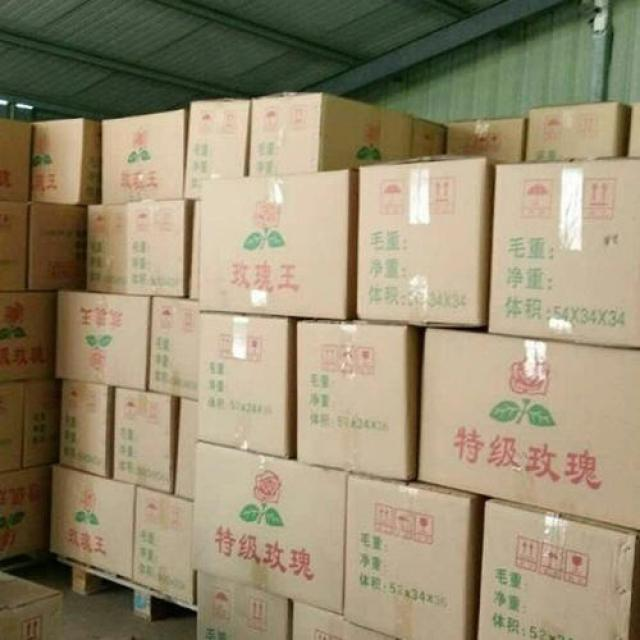box: (417, 325, 640, 530), (489, 155, 640, 348), (195, 440, 349, 614), (343, 472, 493, 639), (358, 155, 497, 328), (198, 172, 358, 320), (476, 497, 640, 639), (297, 315, 424, 481), (197, 311, 297, 458), (248, 90, 412, 175), (84, 201, 193, 297), (50, 463, 137, 581), (55, 291, 151, 390), (102, 109, 189, 205), (133, 485, 197, 605), (114, 387, 182, 494), (184, 97, 251, 200), (196, 572, 293, 639), (526, 101, 632, 161), (31, 118, 101, 206), (58, 379, 115, 477), (28, 202, 87, 291), (0, 291, 58, 381), (148, 297, 198, 401), (0, 465, 51, 559), (1, 570, 64, 639), (292, 602, 401, 639), (447, 118, 529, 164), (23, 379, 61, 470), (0, 118, 33, 202), (0, 201, 29, 293), (174, 398, 198, 500), (0, 381, 26, 474), (411, 118, 447, 157), (188, 201, 201, 300), (627, 102, 640, 157)
